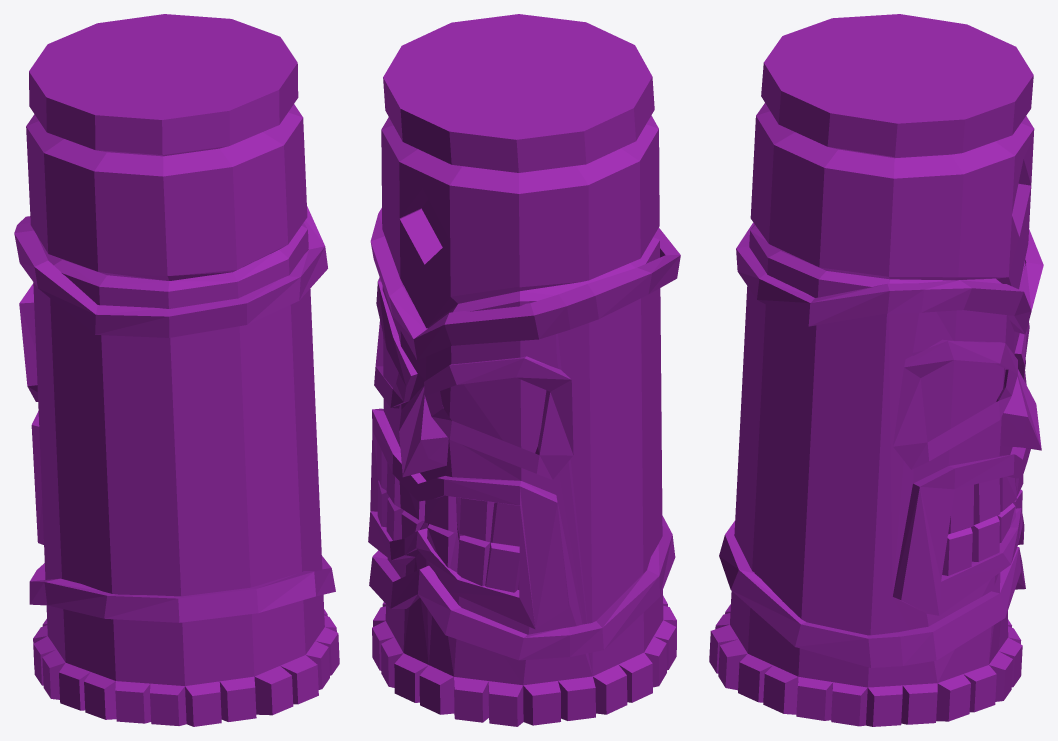
File: tiki-head.glb
3 renders of one model, left to right at view 1: azimuth 30°, elevation 25°; view 2: azimuth 150°, elevation 25°; view 3: azimuth 270°, elevation 25°, orthographic.
Visible parts, largest first — view 1: group1638170669, group324862718, group387651163, group263355546; view 2: group1638170669, group324862718, group387651163, group263355546, group1685646932, group1276891837, group338512066, group1395256895, group1651956358, group1704296005, group1651658759; view 3: group1638170669, group387651163, group324862718, group338512066, group1651658759, group1704296005, group1651956358.
Part boxes in pixels (x1=…): group1638170669: x1=26, y1=14, x2=339, y2=726; group324862718: x1=14, y1=206, x2=327, y2=337; group387651163: x1=29, y1=556, x2=335, y2=622; group263355546: x1=19, y1=283, x2=38, y2=401; group1638170669: x1=368, y1=14, x2=676, y2=726; group324862718: x1=370, y1=208, x2=680, y2=360; group387651163: x1=369, y1=515, x2=675, y2=660; group263355546: x1=424, y1=356, x2=573, y2=479; group1685646932: x1=485, y1=502, x2=519, y2=592; group1276891837: x1=457, y1=498, x2=494, y2=586; group338512066: x1=374, y1=277, x2=417, y2=408; group1395256895: x1=424, y1=495, x2=459, y2=572; group1651956358: x1=399, y1=482, x2=427, y2=538; group1704296005: x1=386, y1=463, x2=403, y2=540; group1651658759: x1=377, y1=441, x2=389, y2=527; group1638170669: x1=709, y1=14, x2=1041, y2=726; group387651163: x1=719, y1=520, x2=1025, y2=667; group324862718: x1=736, y1=222, x2=1043, y2=334; group338512066: x1=893, y1=339, x2=1017, y2=469; group1651658759: x1=942, y1=484, x2=973, y2=575; group1704296005: x1=971, y1=478, x2=1000, y2=561; group1651956358: x1=997, y1=476, x2=1016, y2=542.
Size of the model in its own units: 0.2982 by 0.6355 by 0.3168.
